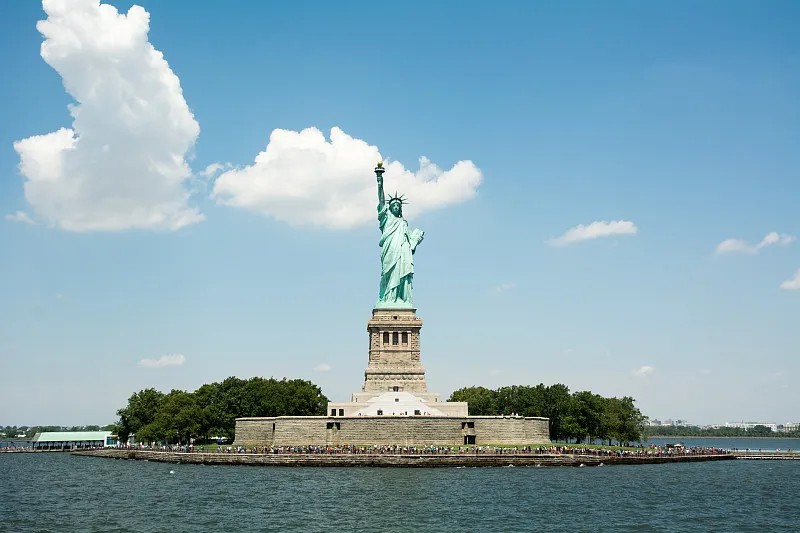SL: (361, 162, 428, 393)
